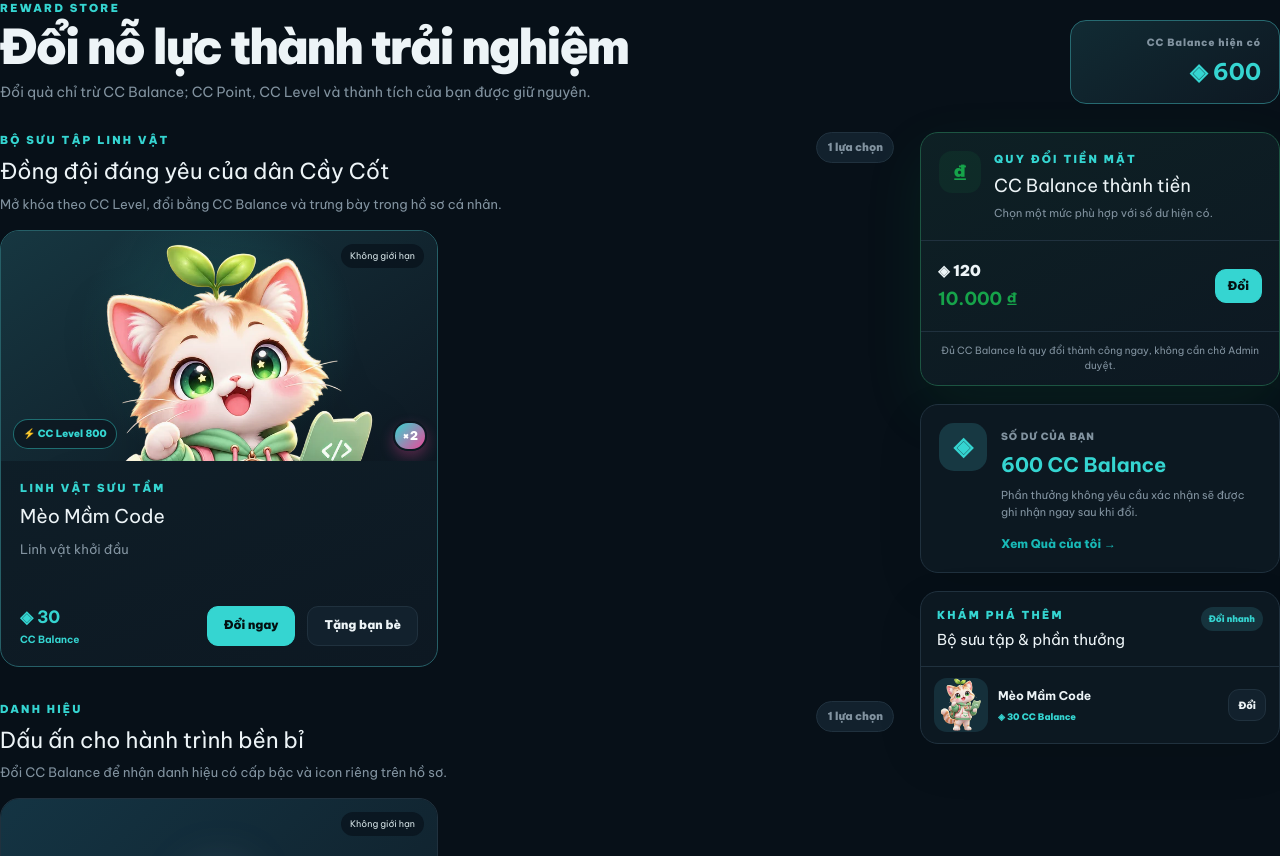
Test: RewardsPage › opens a gift dialog with recipient and message fields
Click the button "Tặng bạn bè" at coordinates (363, 626), box [308,606,418,646]
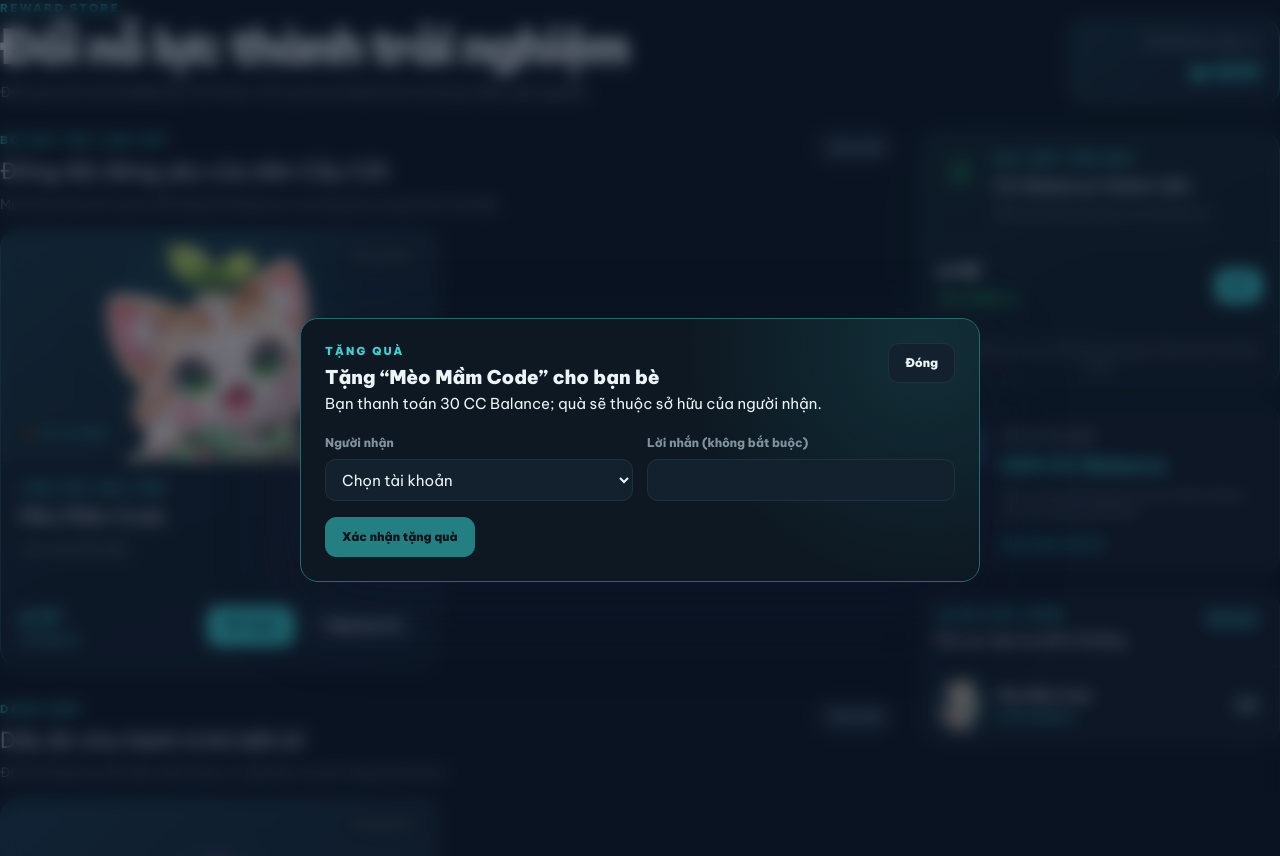
Result: the dropdown labelled "Người nhận" is shown at [325,459,633,501]
Result: the field labelled "Lời nhắn (không bắt buộc)" is shown at [647,459,955,501]
